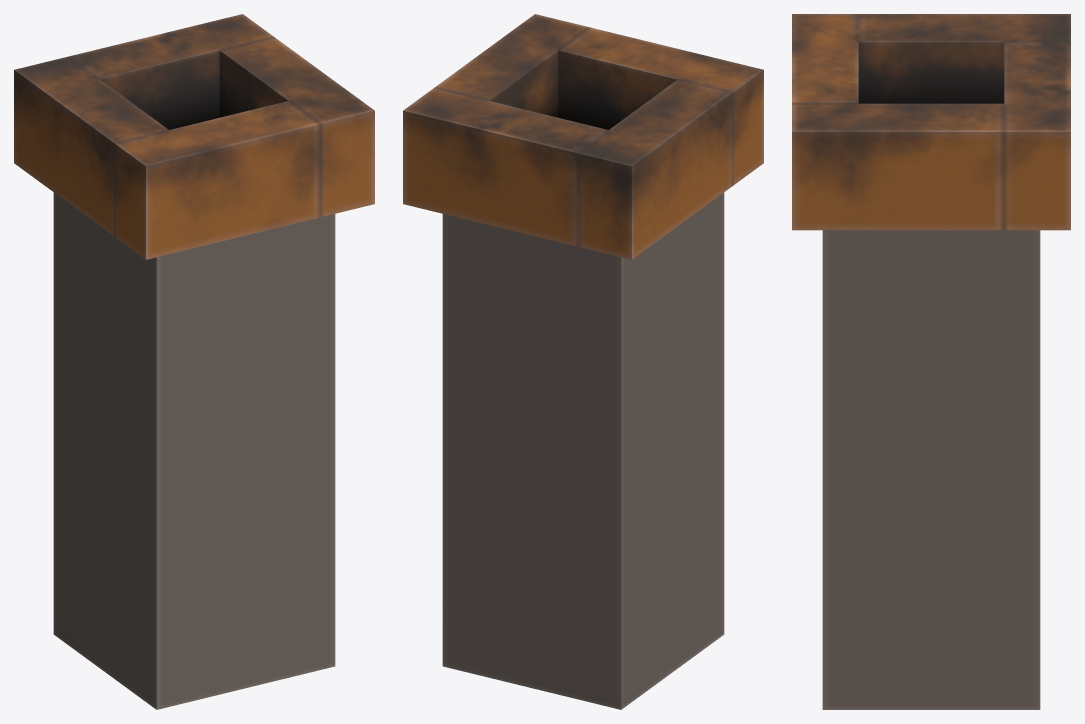
File: sb_obj_outdoor028_chimney01.fbx
3 views of the same model, side by side, from view 1: azimuth 30°, elevation 25°; view 2: azimuth 150°, elevation 25°; view 3: azimuth 270°, elevation 25° (orthographic). The views are drawn at different scales.
Parts seen in each view (by area): view 1: 01; view 2: 01; view 3: 01.
Boxes of the visible parts, x1=… form: 01: x1=14, y1=14, x2=374, y2=709; 01: x1=403, y1=14, x2=763, y2=709; 01: x1=792, y1=14, x2=1070, y2=709.
Size of the model in its own units: 0.7695 by 1.8 by 0.7695.
